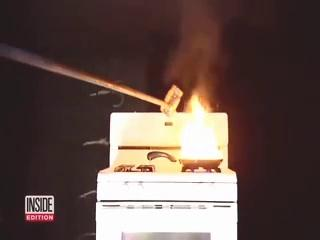Fire: (176, 76, 219, 165)
